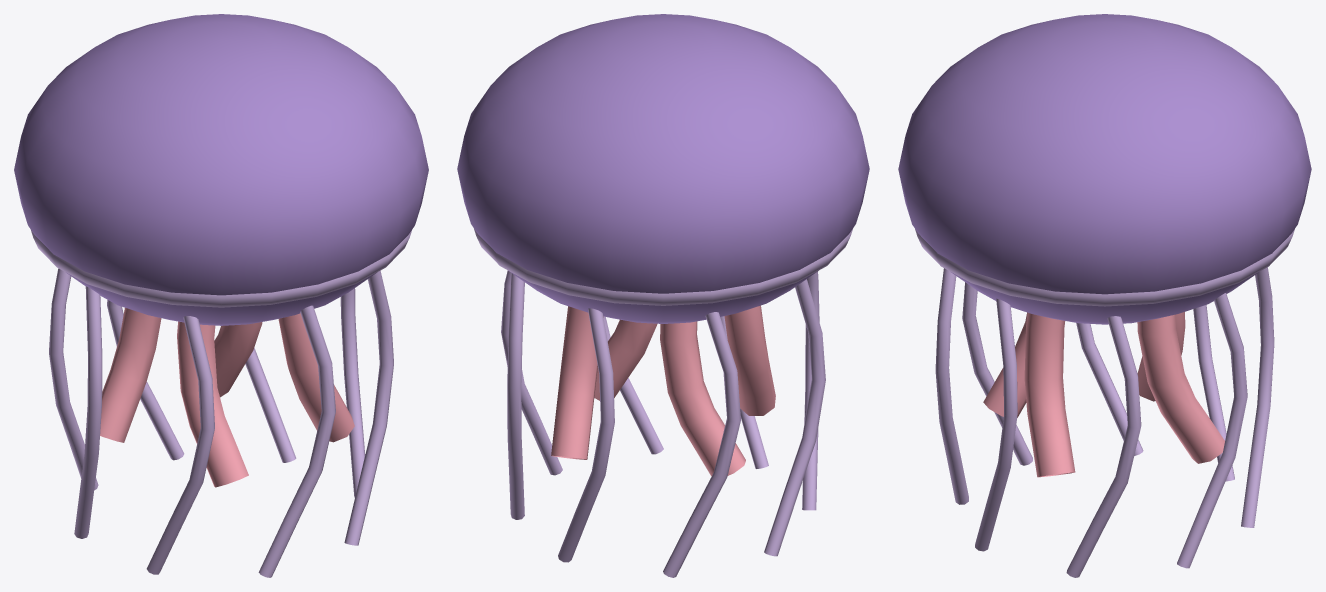
Rendered from fairy_shadow_jellyfish.glb.
The picture shows the model from 3 angles, left to right: view 1: azimuth 30°, elevation 25°; view 2: azimuth 150°, elevation 25°; view 3: azimuth 270°, elevation 25°; orthographic projection.
Parts seen in each view (by area): view 1: Bell.001, OralArm_1.001, BellRim, OralArm_2.001, Tentacle_6.001, Tentacle_7.001, Tentacle_5.001, Tentacle_4.001, OralArm_3.001, Tentacle_3.001, Tentacle_0, OralArm_0 (+2 smaller); view 2: Bell.001, OralArm_1.001, OralArm_0, BellRim, Tentacle_4.001, Tentacle_3.001, Tentacle_2.001, OralArm_2.001, Tentacle_1.001, OralArm_3.001, Tentacle_0, Tentacle_5.001 (+2 smaller); view 3: Bell.001, OralArm_3.001, OralArm_0, BellRim, Tentacle_1.001, Tentacle_0, Tentacle_2.001, Tentacle_7.001, Tentacle_6.001, Tentacle_5.001, Tentacle_3.001, Tentacle_4.001 (+2 smaller).
Part boxes in pixels (<box>): Bell.001: <box>14,14,428,325</box>; OralArm_1.001: <box>100,308,161,442</box>; BellRim: <box>31,230,411,307</box>; OralArm_2.001: <box>177,321,248,487</box>; Tentacle_6.001: <box>258,305,335,577</box>; Tentacle_7.001: <box>344,270,393,545</box>; Tentacle_5.001: <box>146,316,214,574</box>; Tentacle_4.001: <box>74,286,102,538</box>; OralArm_3.001: <box>278,313,354,442</box>; Tentacle_3.001: <box>49,268,98,489</box>; Tentacle_0: <box>340,288,365,497</box>; OralArm_0: <box>214,322,262,397</box>; Bell.001: <box>457,14,869,323</box>; OralArm_1.001: <box>660,321,745,476</box>; OralArm_0: <box>551,306,603,459</box>; BellRim: <box>474,229,852,305</box>; Tentacle_4.001: <box>764,279,825,556</box>; Tentacle_3.001: <box>663,312,740,577</box>; Tentacle_2.001: <box>558,308,614,562</box>; OralArm_2.001: <box>724,305,775,415</box>; Tentacle_1.001: <box>507,273,524,519</box>; OralArm_3.001: <box>594,319,657,400</box>; Tentacle_0: <box>501,270,562,475</box>; Tentacle_5.001: <box>802,271,819,510</box>; Bell.001: <box>898,14,1311,324</box>; OralArm_3.001: <box>1024,313,1075,477</box>; OralArm_0: <box>1137,314,1224,463</box>; BellRim: <box>915,229,1294,306</box>; Tentacle_1.001: <box>1177,293,1247,568</box>; Tentacle_0: <box>1066,316,1141,577</box>; Tentacle_2.001: <box>1241,267,1274,527</box>; Tentacle_7.001: <box>975,298,1017,551</box>; Tentacle_6.001: <box>935,268,968,504</box>; Tentacle_5.001: <box>962,282,1032,465</box>; Tentacle_3.001: <box>1193,305,1234,481</box>; Tentacle_4.001: <box>1076,323,1143,455</box>.
Bounding box in the file's own units: 4.3 × 5.46 × 4.3.
